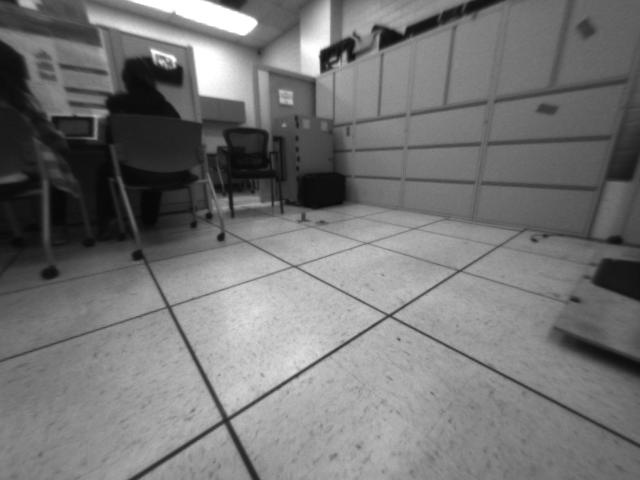X: (294, 211, 312, 225)
